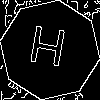H: (25, 25, 69, 76)
